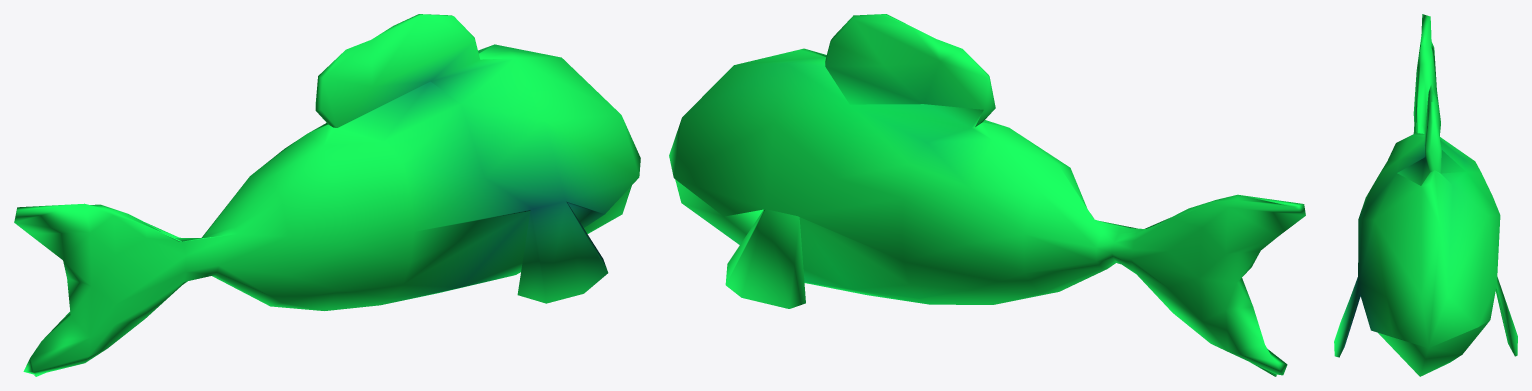
File: FCrappie.glb
The picture shows the model from 3 angles, left to right: view 1: azimuth 30°, elevation 25°; view 2: azimuth 150°, elevation 25°; view 3: azimuth 270°, elevation 25°; orthographic projection. The views are drawn at different scales.
Visible parts, largest first — view 1: fish low poly; view 2: fish low poly; view 3: fish low poly.
Part boxes in pixels (box(x1,y1,x2,y2)): fish low poly: box(14, 14, 640, 376); fish low poly: box(669, 14, 1305, 376); fish low poly: box(1334, 14, 1517, 376).
Size of the model in its own units: 0.8936 by 0.384 by 0.276.
